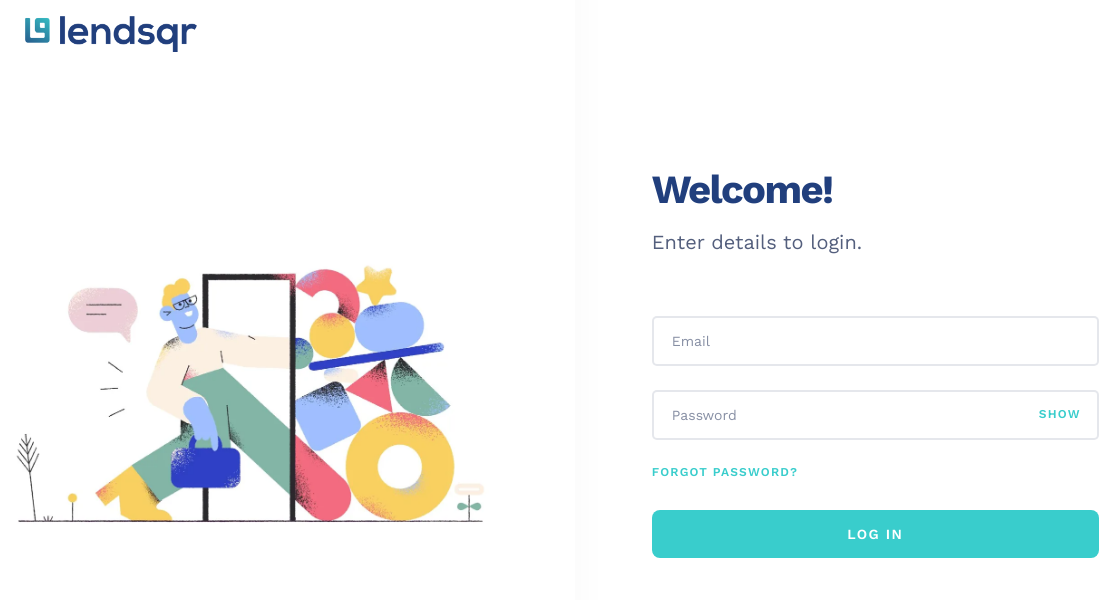
LoginPage › clears a field error as the user edits that field
The image size is (1119, 600).
Click the button "Log in".
click(875, 534)  # box [652,510,1099,558]
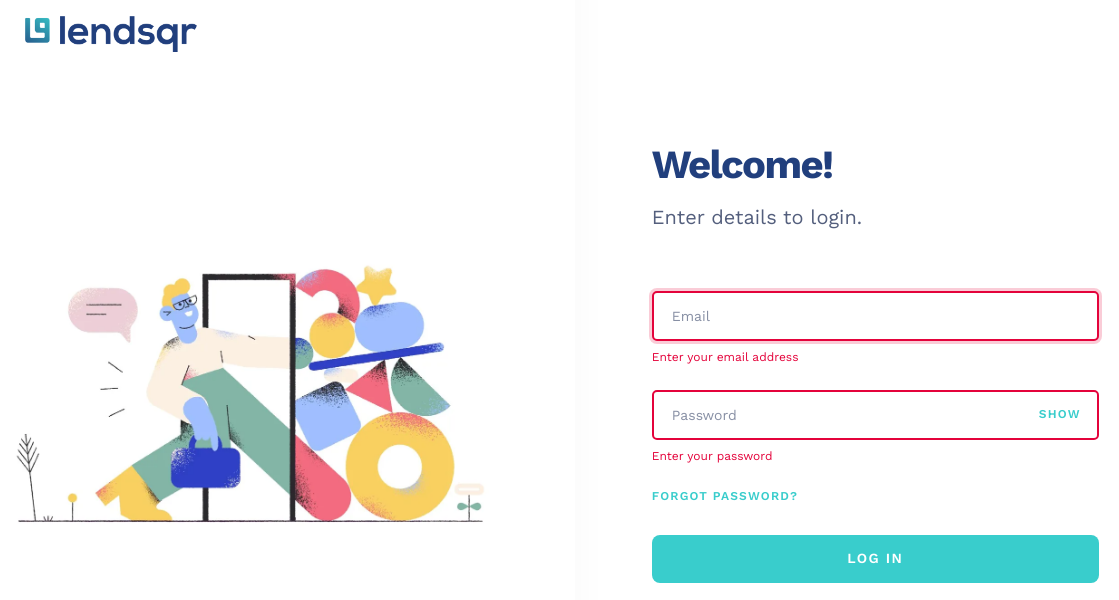
Type "a" into the field labelled "Email".
click(875, 316); type("a")  # box [654,293,1097,339]
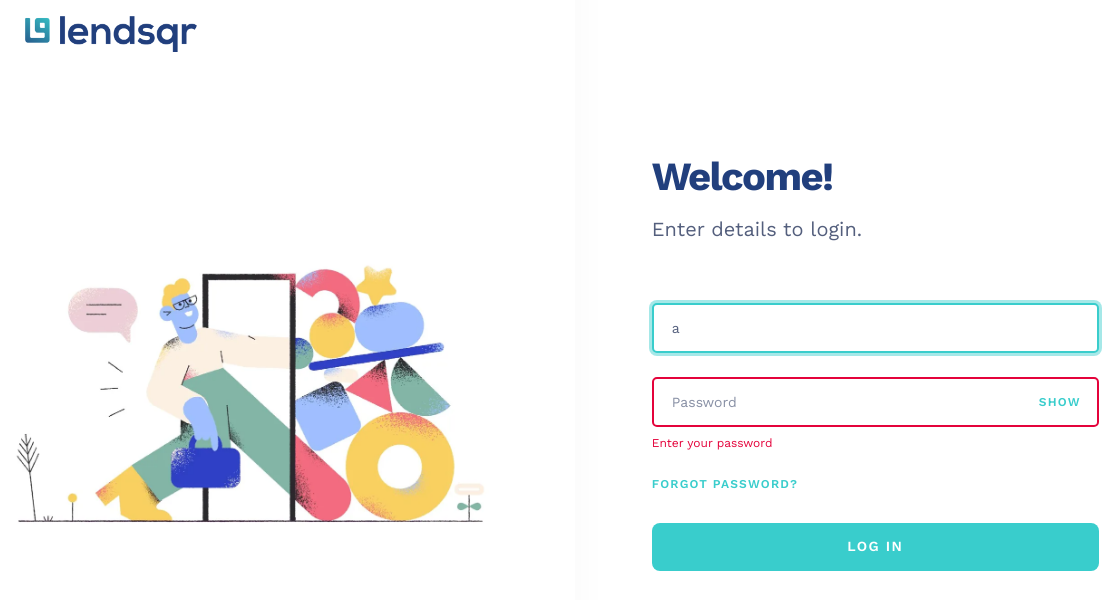
Result: the text "Enter your password" is shown at [652,436,773,450]
Result: the text "Enter your email address" is gone
